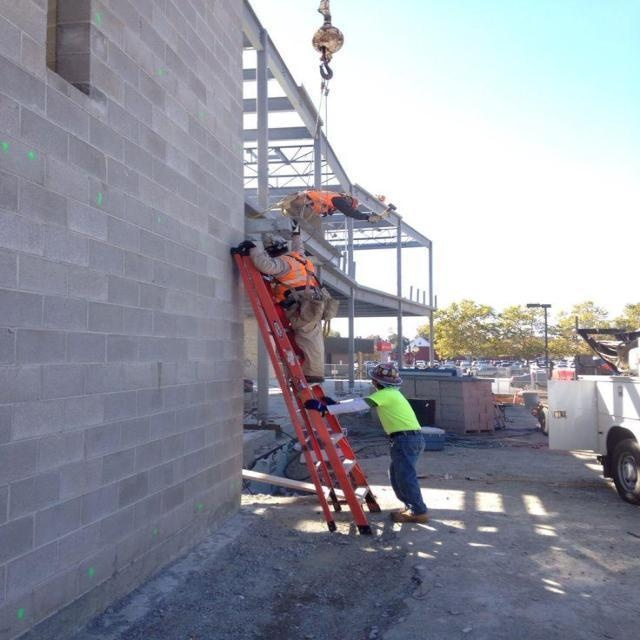Arnes_seguridad: (268, 249, 322, 304)
